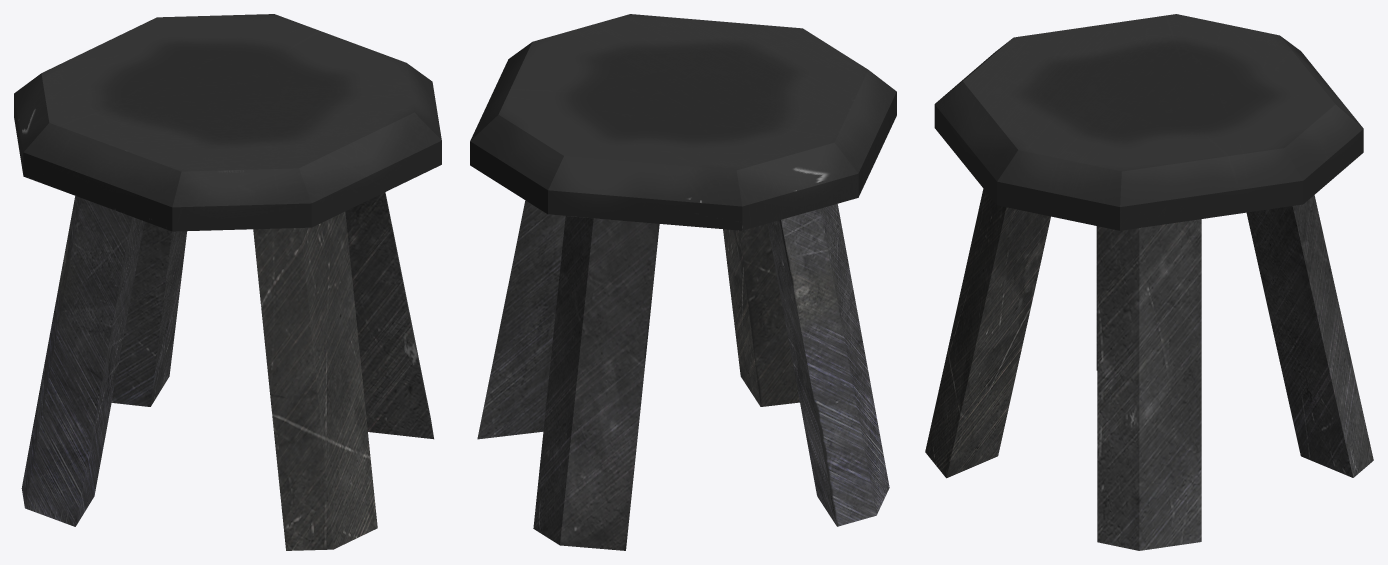
The model's file is Stool.fbx.
The picture shows the model from 3 angles, left to right: view 1: azimuth 30°, elevation 25°; view 2: azimuth 150°, elevation 25°; view 3: azimuth 270°, elevation 25°; orthographic projection. The views are drawn at different scales.
Visible parts, largest first — view 1: pCube1; view 2: pCube1; view 3: pCube1.
Part boxes in pixels (x1,y1,x2,y2): pCube1: (14,14,441,550); pCube1: (470,14,896,550); pCube1: (925,14,1373,550).
Bounding box in the file's own units: 17.18 × 15.38 × 17.2.
Materials: 1 (1 with a texture image).
